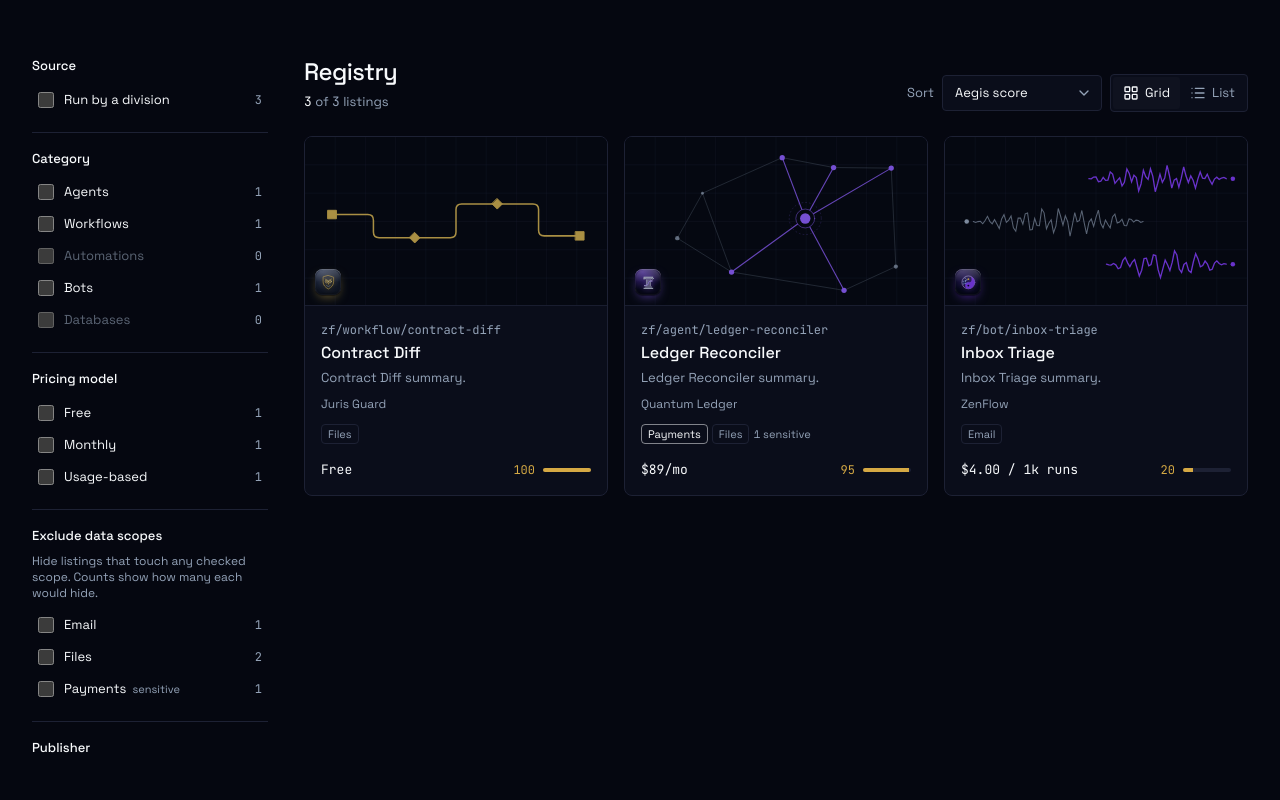
Test case: Registry view toggle › switches to the list, persists the choice and leaves filters alone
The width and height of the screenshot is (1280, 800).
What coordinates should you click on to do the following:
click the button "List"
I would click on:
 (1212, 92)
Its box is [1180, 76, 1245, 108].
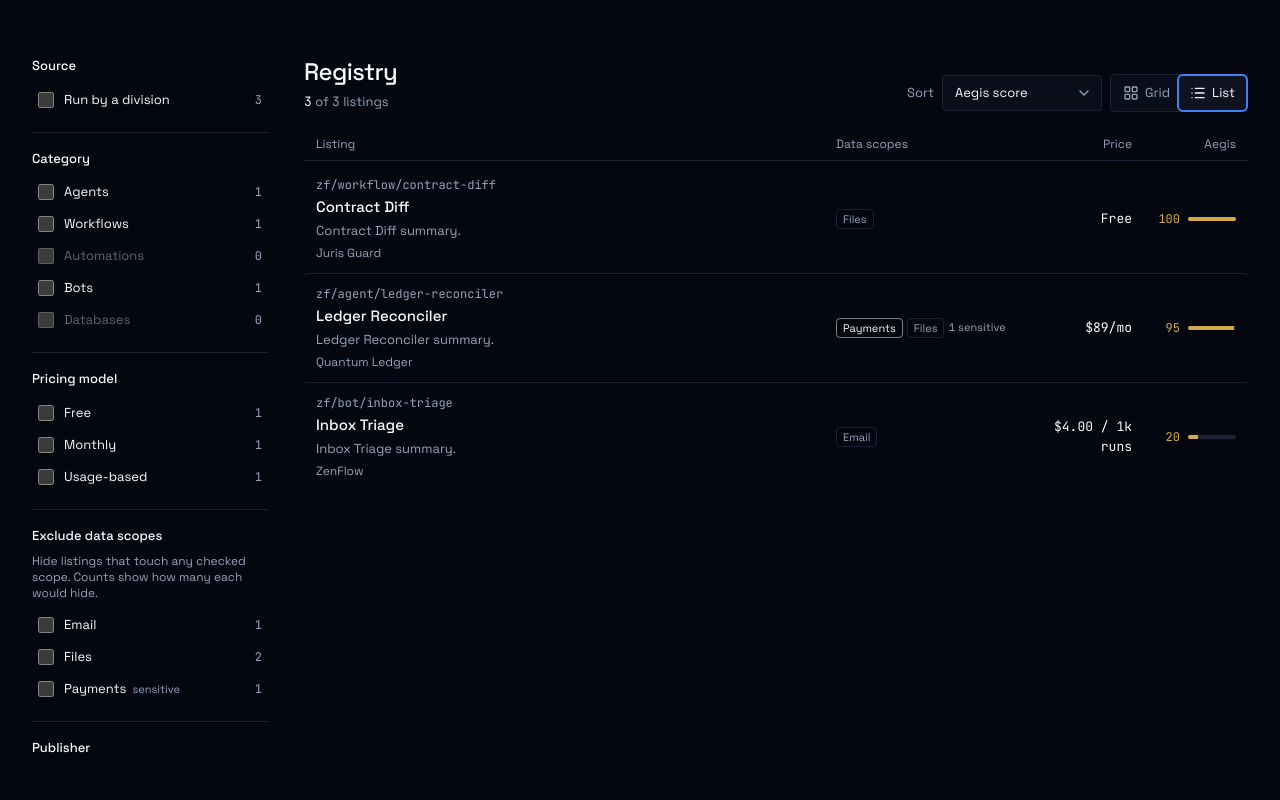
Now the number of list items is 3, box [315, 176, 935, 261]; [304, 273, 1248, 382]; [304, 382, 1248, 491]
